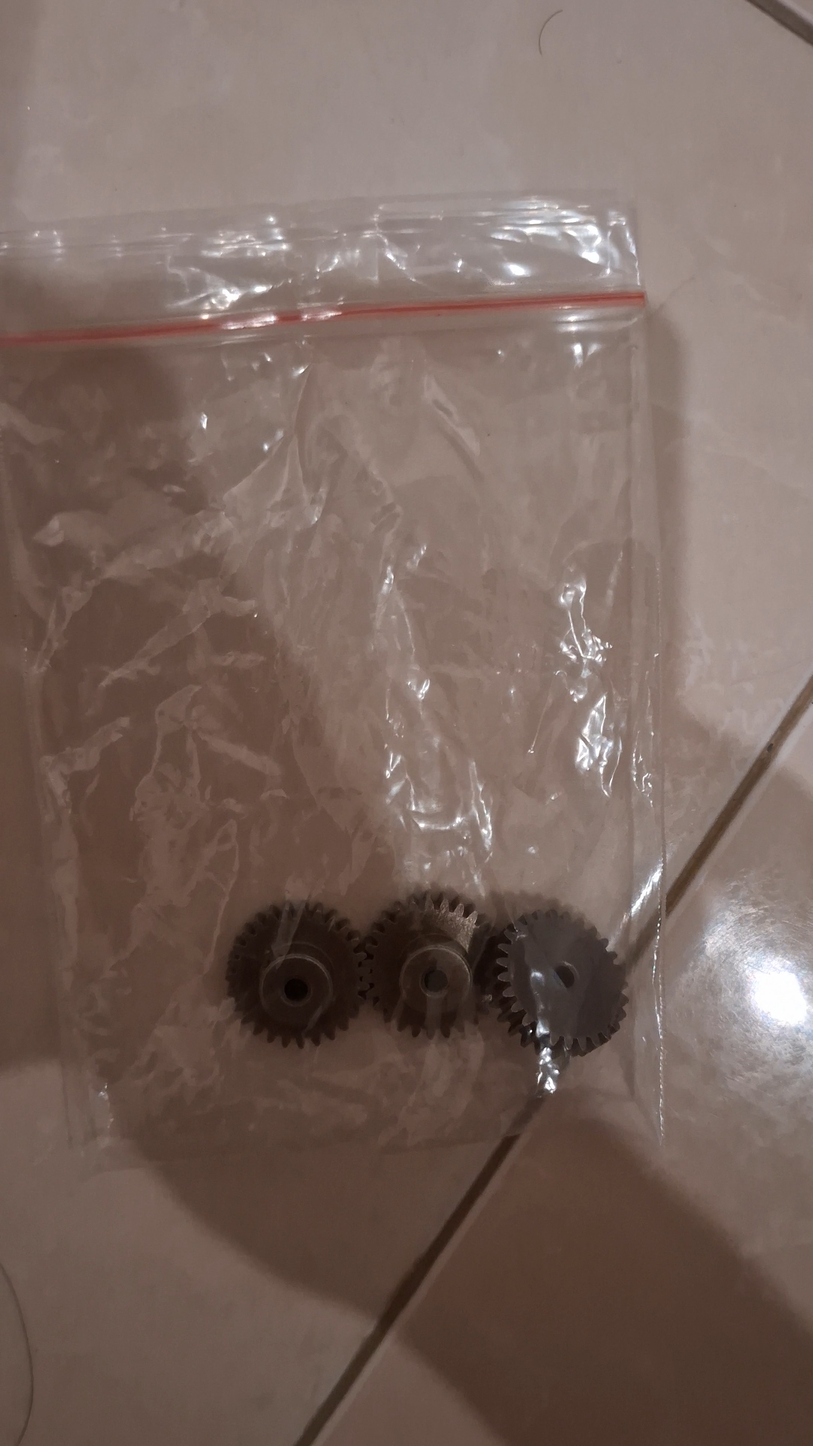spur gear: (476, 901, 634, 1059), (221, 897, 367, 1048), (353, 887, 490, 1039)
